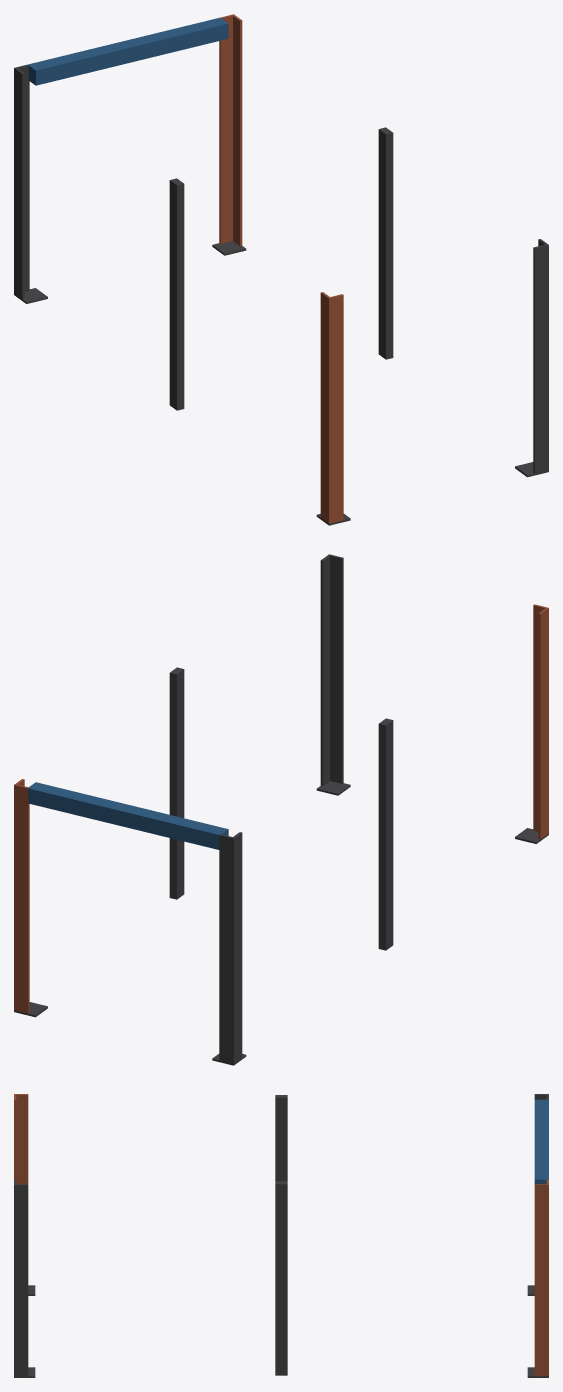
File: c20_frame.obj
3 views of the same model, one above another, from view 1: azimuth 30°, elevation 25°; view 2: azimuth 150°, elevation 25°; view 3: azimuth 270°, elevation 25° (orthographic). The views are drawn at different scales.
Visible parts, largest first — view 1: c20_frame; view 2: c20_frame; view 3: c20_frame.
Part boxes in pixels (x1,y1,x2,y2): c20_frame: (14, 14, 548, 525); c20_frame: (14, 554, 548, 1065); c20_frame: (14, 1094, 548, 1377).
Bounding box in the file's own units: 2.44 × 2.41 × 6.06.
